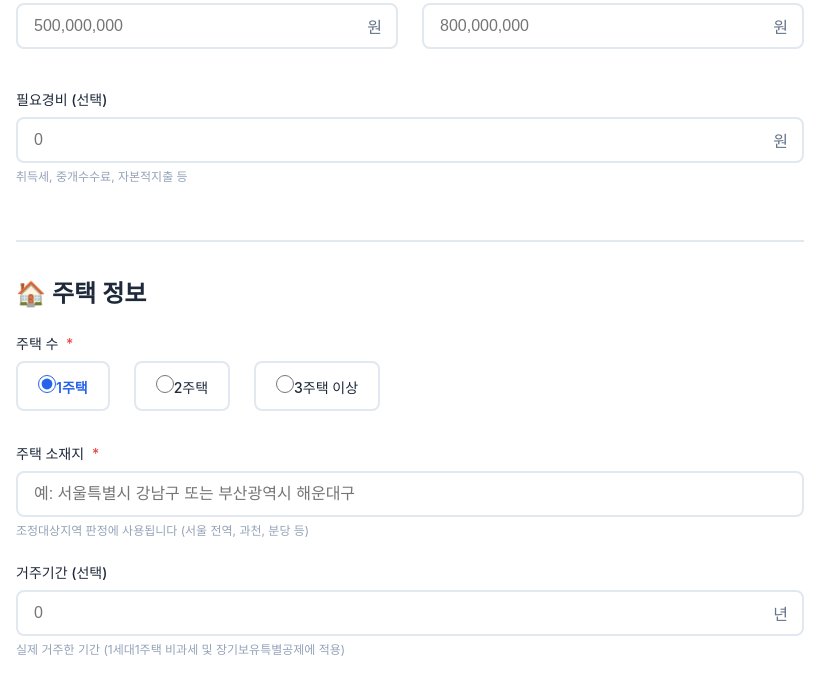
it: CapitalGainsTaxForm Component › Input Handling › Should show tempDual2Years checkbox when house count is 2
(page scrolled)
Click the radio button labelled "2주택": (165, 384) left=156, top=375, right=174, bottom=393
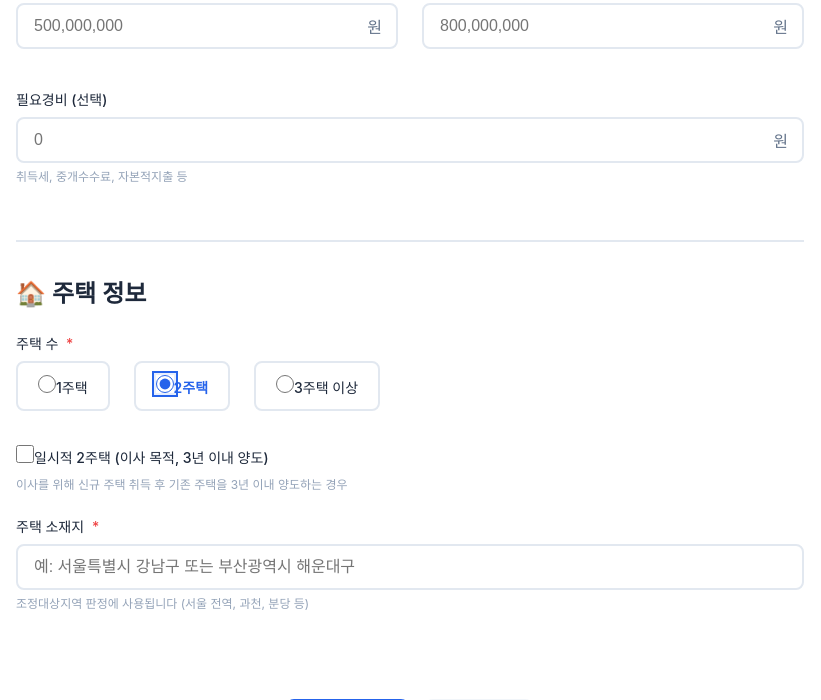
Expected: the text "일시적 2주택 (이사 목적, 3년 이내 양도)" is shown, left=34, top=449, right=268, bottom=466
